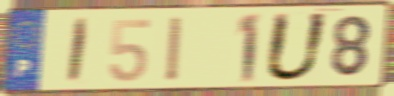1: (235, 12, 263, 84)
5: (107, 16, 152, 84)
8: (330, 13, 373, 79)
I: (64, 16, 92, 86), (165, 14, 185, 84)
U: (261, 10, 332, 84)
